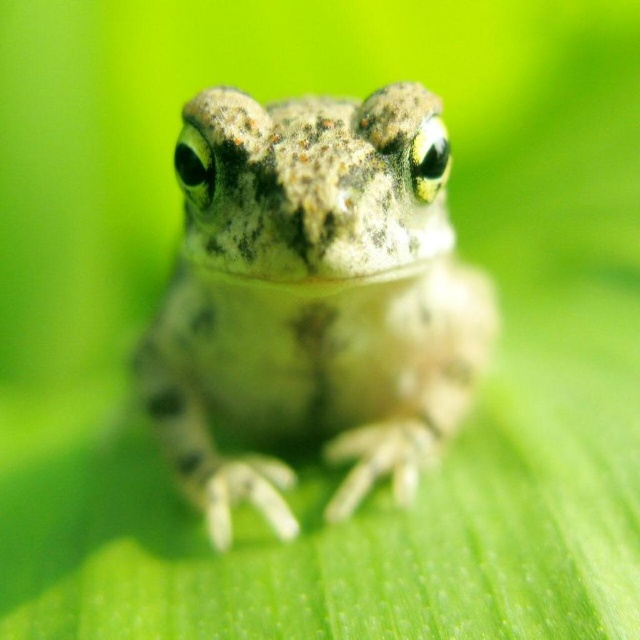Frog: (133, 80, 501, 549)
